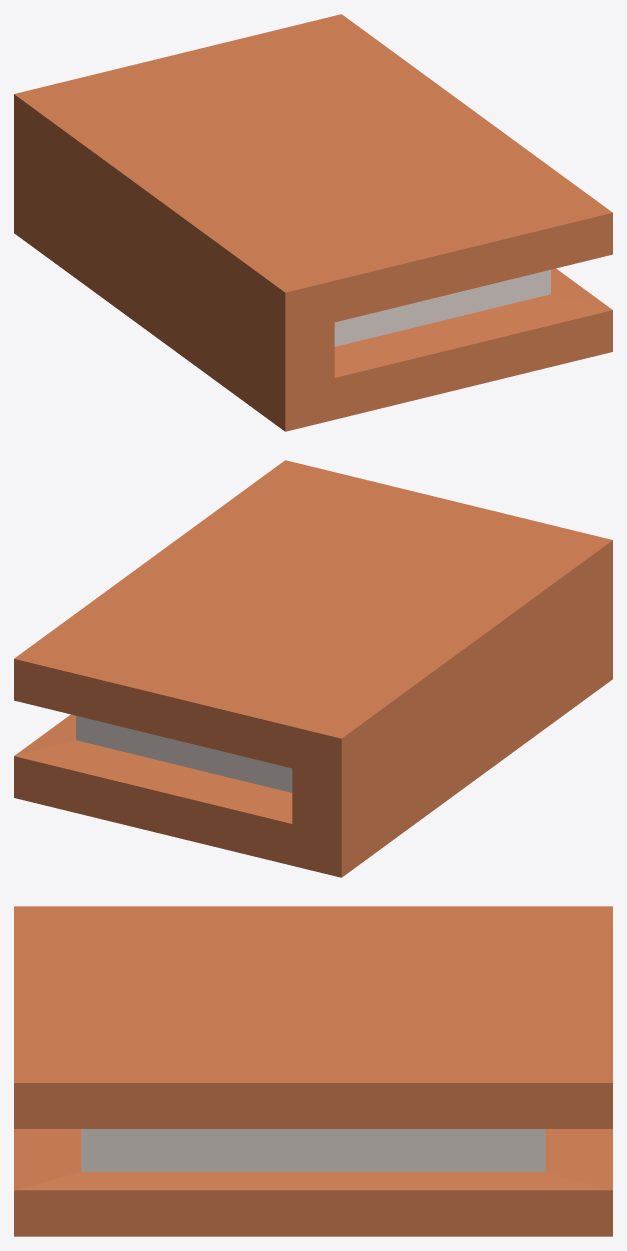
The model's file is Book 01 Brown.FBX.
The picture shows the model from 3 angles, top to bottom: view 1: azimuth 30°, elevation 25°; view 2: azimuth 150°, elevation 25°; view 3: azimuth 270°, elevation 25°; orthographic projection. The views are drawn at different scales.
Visible parts, largest first — view 1: Book 01 Brown; view 2: Book 01 Brown; view 3: Book 01 Brown.
Part boxes in pixels (left/top/right/bottom): Book 01 Brown: left=14, top=14, right=612, bottom=431; Book 01 Brown: left=14, top=460, right=612, bottom=877; Book 01 Brown: left=14, top=906, right=612, bottom=1236.
Size of the model in its own units: 38.56 by 15.65 by 55.32.
